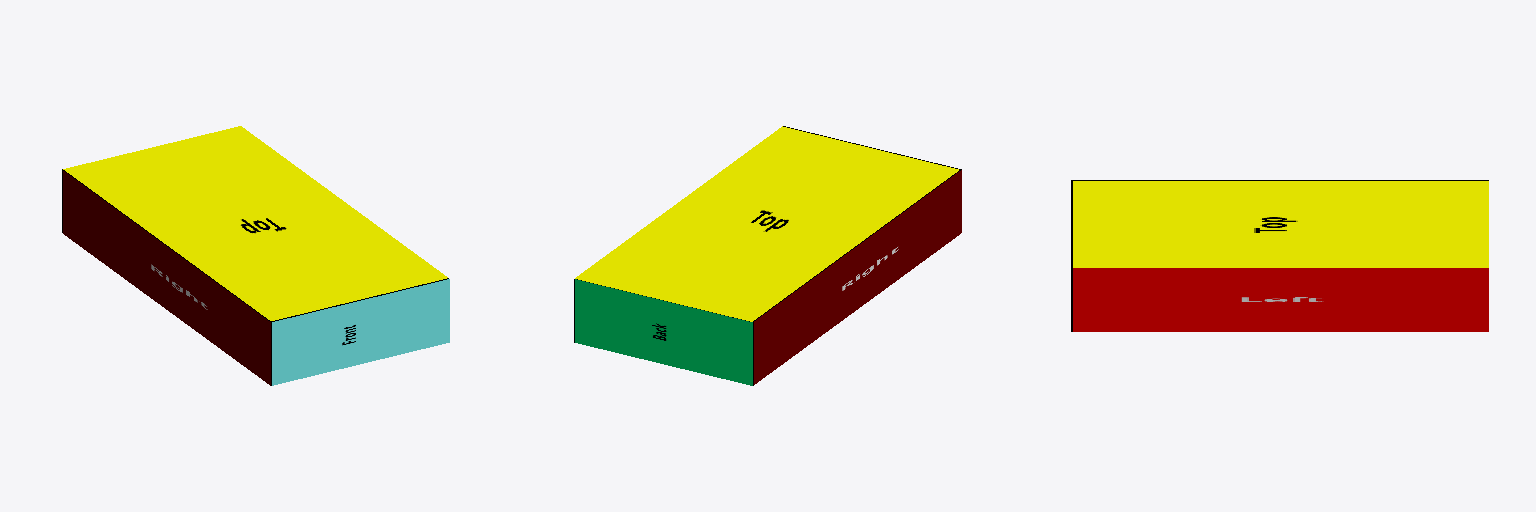
The picture shows the model from 3 angles: view 1: azimuth 30°, elevation 25°; view 2: azimuth 150°, elevation 25°; view 3: azimuth 270°, elevation 25°; orthographic projection.
Parts seen in each view (by area): view 1: Cube; view 2: Cube; view 3: Cube.
Part boxes in pixels (bbox=[...]): Cube: bbox=[62, 126, 449, 385]; Cube: bbox=[574, 126, 961, 385]; Cube: bbox=[1071, 180, 1488, 331].
Size of the model in its own units: 1.77 by 0.6044 by 3.58.
Materials: 1 (1 with a texture image).